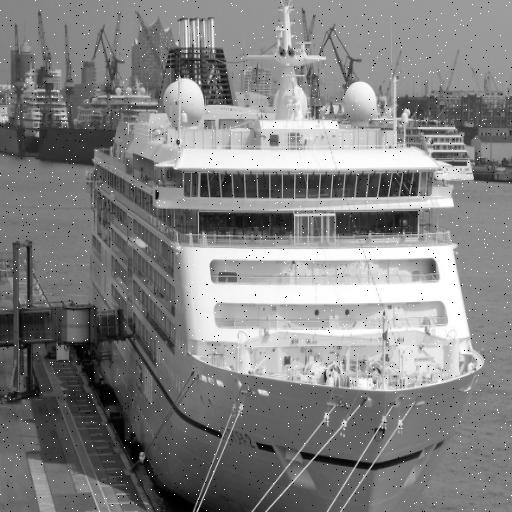cruises: (88, 25, 489, 512)
